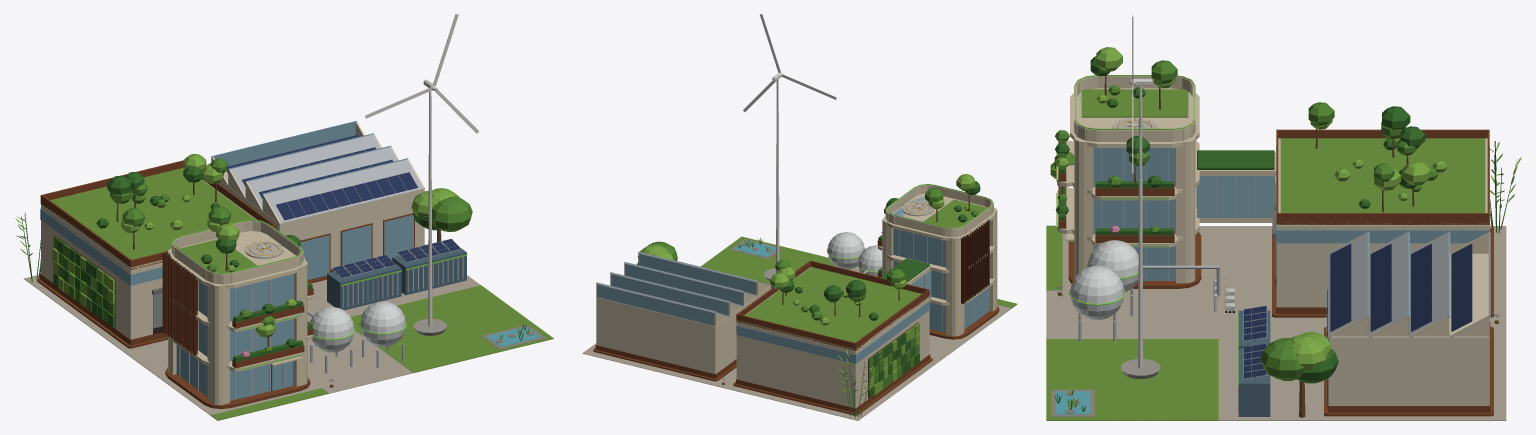
Rendered from factory_4.glb.
3 views of the same model, side by side, from view 1: azimuth 30°, elevation 25°; view 2: azimuth 150°, elevation 25°; view 3: azimuth 270°, elevation 25° (orthographic). The views are drawn at different scales.
Parts seen in each view (by area): view 1: body, windows; view 2: body, windows; view 3: body, windows.
Part boxes in pixels (bbox=[...]): body: bbox=[15, 14, 553, 420]; windows: bbox=[153, 219, 467, 370]; body: bbox=[582, 14, 1017, 420]; windows: bbox=[827, 184, 992, 272]; body: bbox=[1046, 14, 1521, 420]; windows: bbox=[1056, 75, 1276, 387].
Size of the model in its own units: 35.03 by 28.61 by 32.97.
